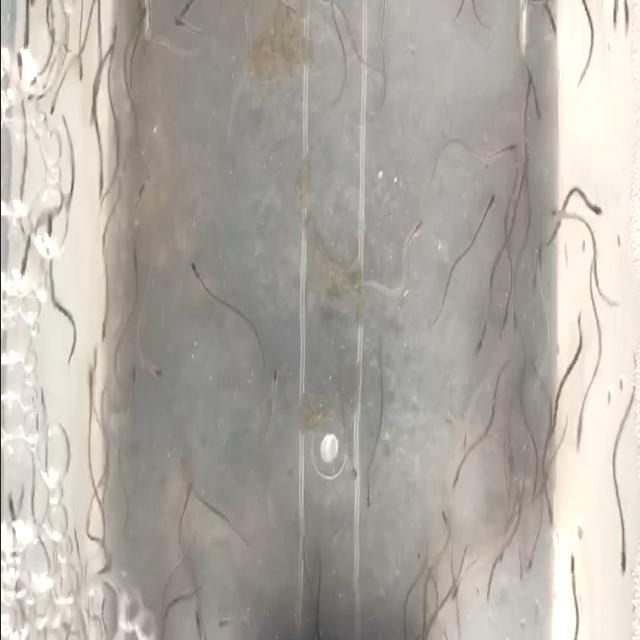active_glass_eel: (399, 208, 423, 269), (540, 8, 568, 59), (540, 196, 568, 243), (566, 414, 592, 460), (501, 125, 531, 164), (563, 544, 585, 594), (95, 546, 119, 590), (617, 516, 631, 582), (177, 477, 201, 515), (516, 540, 534, 590), (468, 317, 488, 361), (122, 360, 142, 404), (586, 182, 604, 230), (504, 298, 520, 352), (82, 94, 100, 140), (450, 450, 467, 490), (15, 250, 32, 290), (482, 184, 502, 216), (417, 564, 435, 598), (148, 357, 164, 393), (526, 100, 540, 141), (502, 434, 516, 474), (94, 306, 110, 341), (2, 487, 20, 518), (127, 242, 139, 288), (542, 499, 554, 544), (41, 204, 56, 240), (87, 176, 105, 206), (36, 386, 50, 423), (491, 305, 508, 333), (448, 580, 462, 614), (40, 20, 58, 46), (480, 574, 496, 603), (351, 452, 362, 492), (437, 498, 448, 536), (366, 470, 374, 522), (540, 453, 550, 493), (185, 260, 198, 290), (43, 101, 60, 123), (136, 0, 149, 28), (132, 183, 146, 207), (266, 363, 277, 393), (529, 477, 539, 508), (75, 59, 85, 89), (84, 357, 94, 387), (14, 48, 24, 76), (89, 344, 98, 372), (38, 80, 44, 116), (25, 87, 33, 113), (112, 17, 115, 66)
